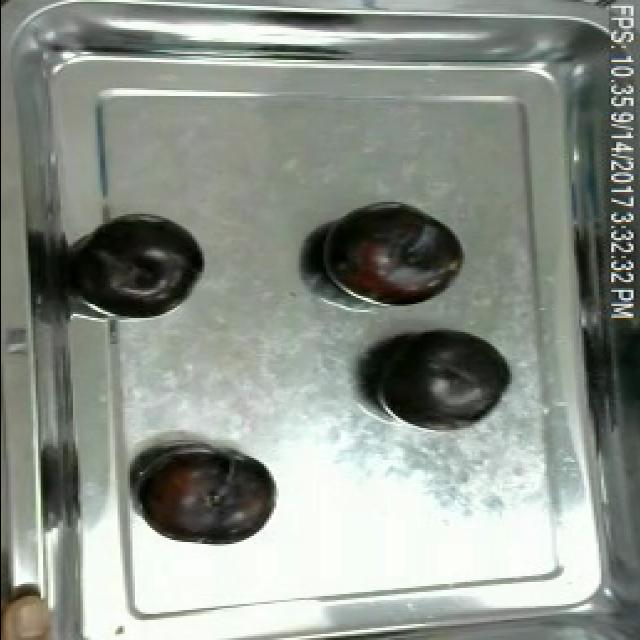Fruit: (362, 322, 516, 432), (314, 200, 466, 308), (134, 442, 280, 550), (90, 214, 206, 314), (0, 586, 67, 640)
